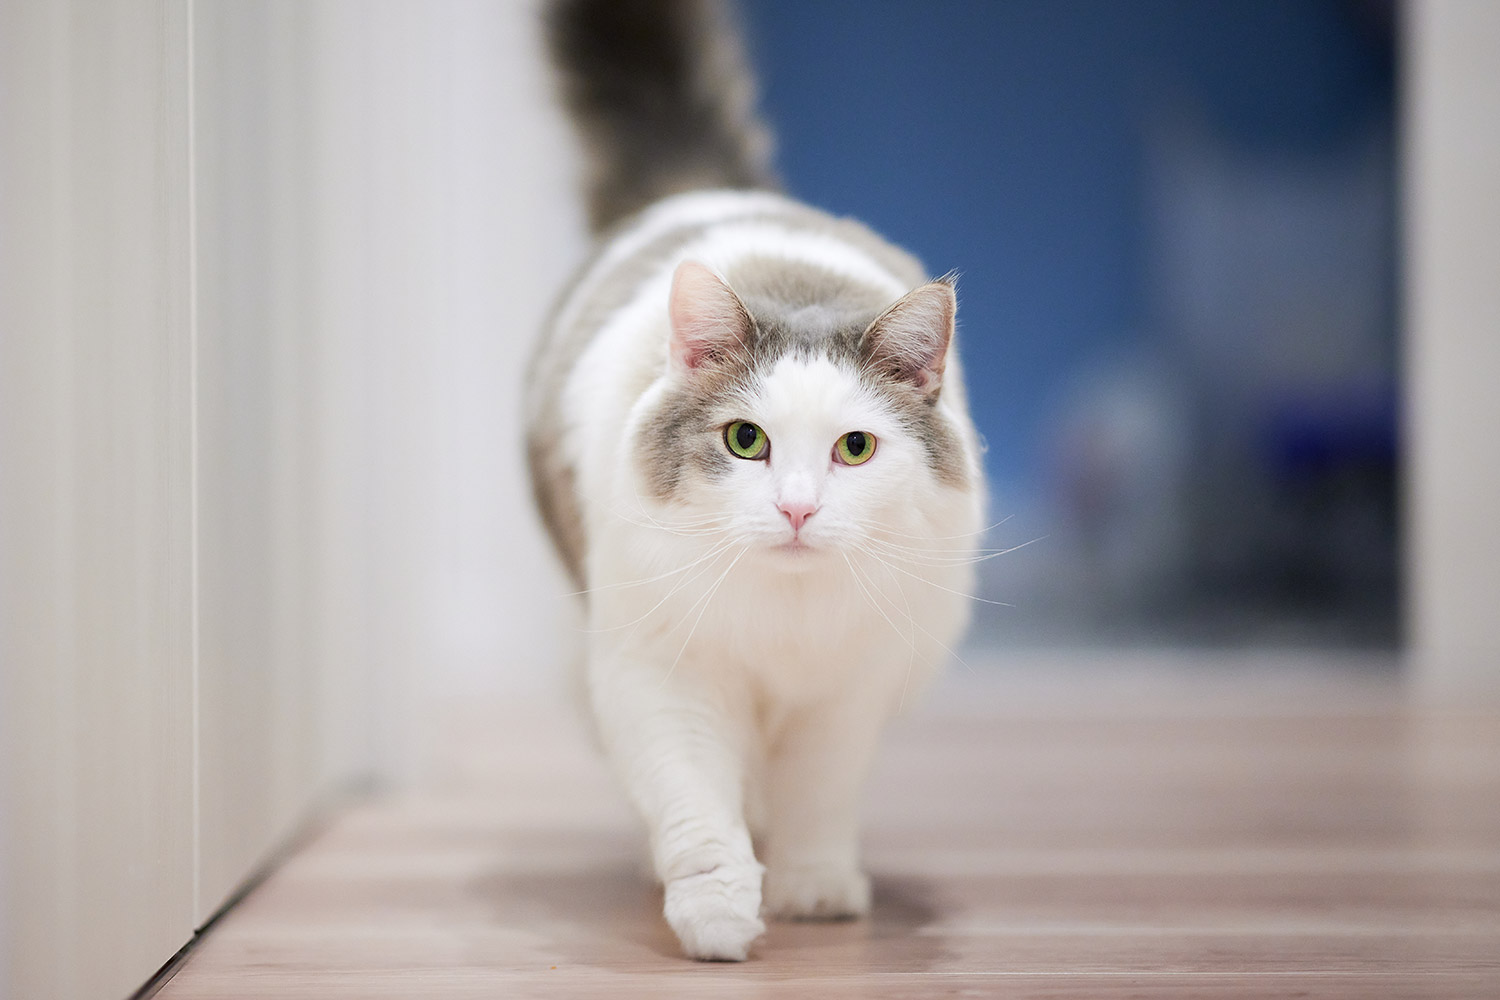cat: (518, 192, 987, 962)
